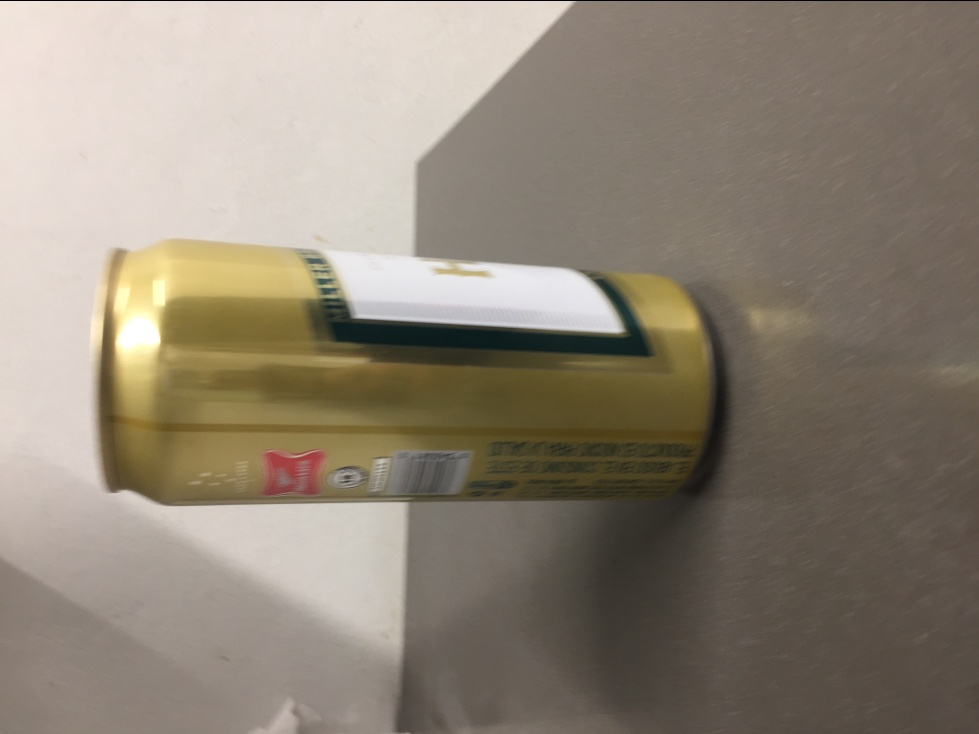miller: (87, 234, 717, 502)
